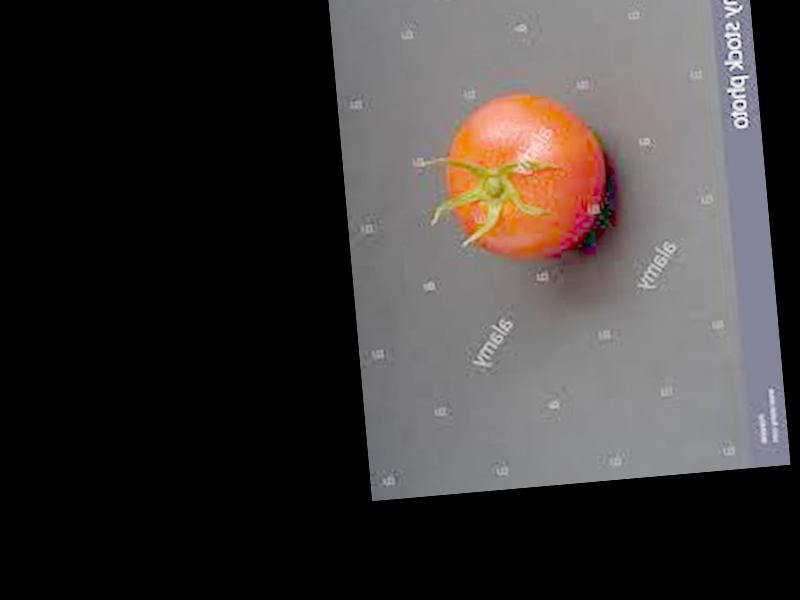Tomato: (438, 87, 605, 267)
